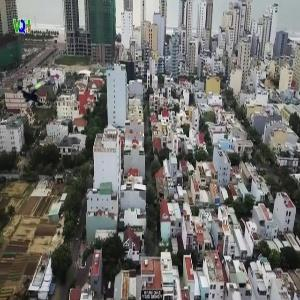drone: (14, 75, 55, 116)
